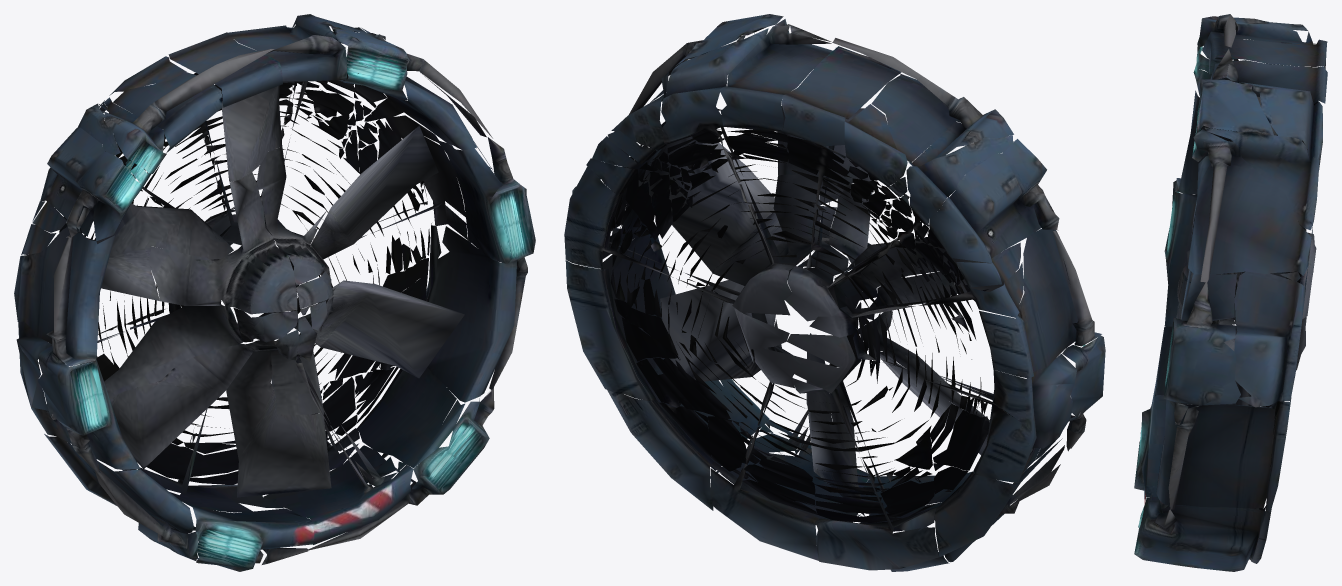
The model's file is fan.glb.
3 renders of one model, left to right at view 1: azimuth 30°, elevation 25°; view 2: azimuth 150°, elevation 25°; view 3: azimuth 270°, elevation 25°, orthographic. The views are drawn at different scales.
Visible parts, largest first — view 1: Mesh; view 2: Mesh; view 3: Mesh.
Part boxes in pixels (x1,y1,x2,y2): Mesh: (14, 14, 535, 571); Mesh: (564, 14, 1105, 571); Mesh: (1134, 14, 1327, 571).
Size of the model in its own units: 1.71 by 1.7 by 0.6017.
Materials: 1 (1 with a texture image).
